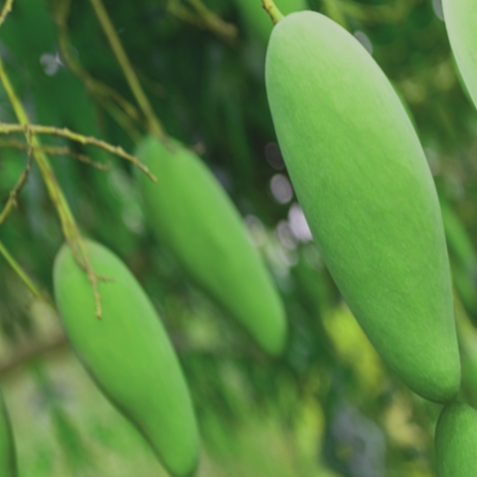mango: (198, 0, 477, 435), (101, 101, 321, 404), (17, 211, 234, 477)
